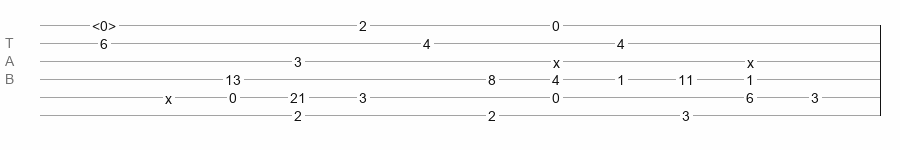0: (229, 90, 237, 100), (552, 18, 560, 28), (552, 90, 560, 100)
1: (617, 72, 625, 82), (746, 72, 754, 82)
11: (678, 72, 694, 82)
13: (225, 72, 241, 82)
2: (294, 108, 302, 118), (359, 18, 367, 28), (488, 108, 496, 118)
21: (290, 90, 306, 100)
3: (294, 54, 302, 64), (359, 90, 367, 100), (682, 108, 690, 118), (811, 90, 819, 100)
4: (423, 36, 431, 46), (552, 72, 560, 82), (617, 36, 625, 46)
6: (100, 36, 108, 46), (746, 90, 754, 100)
8: (488, 72, 496, 82)
harmonic: (92, 18, 116, 28)
x: (165, 91, 172, 99), (553, 55, 560, 63), (747, 55, 754, 63)
